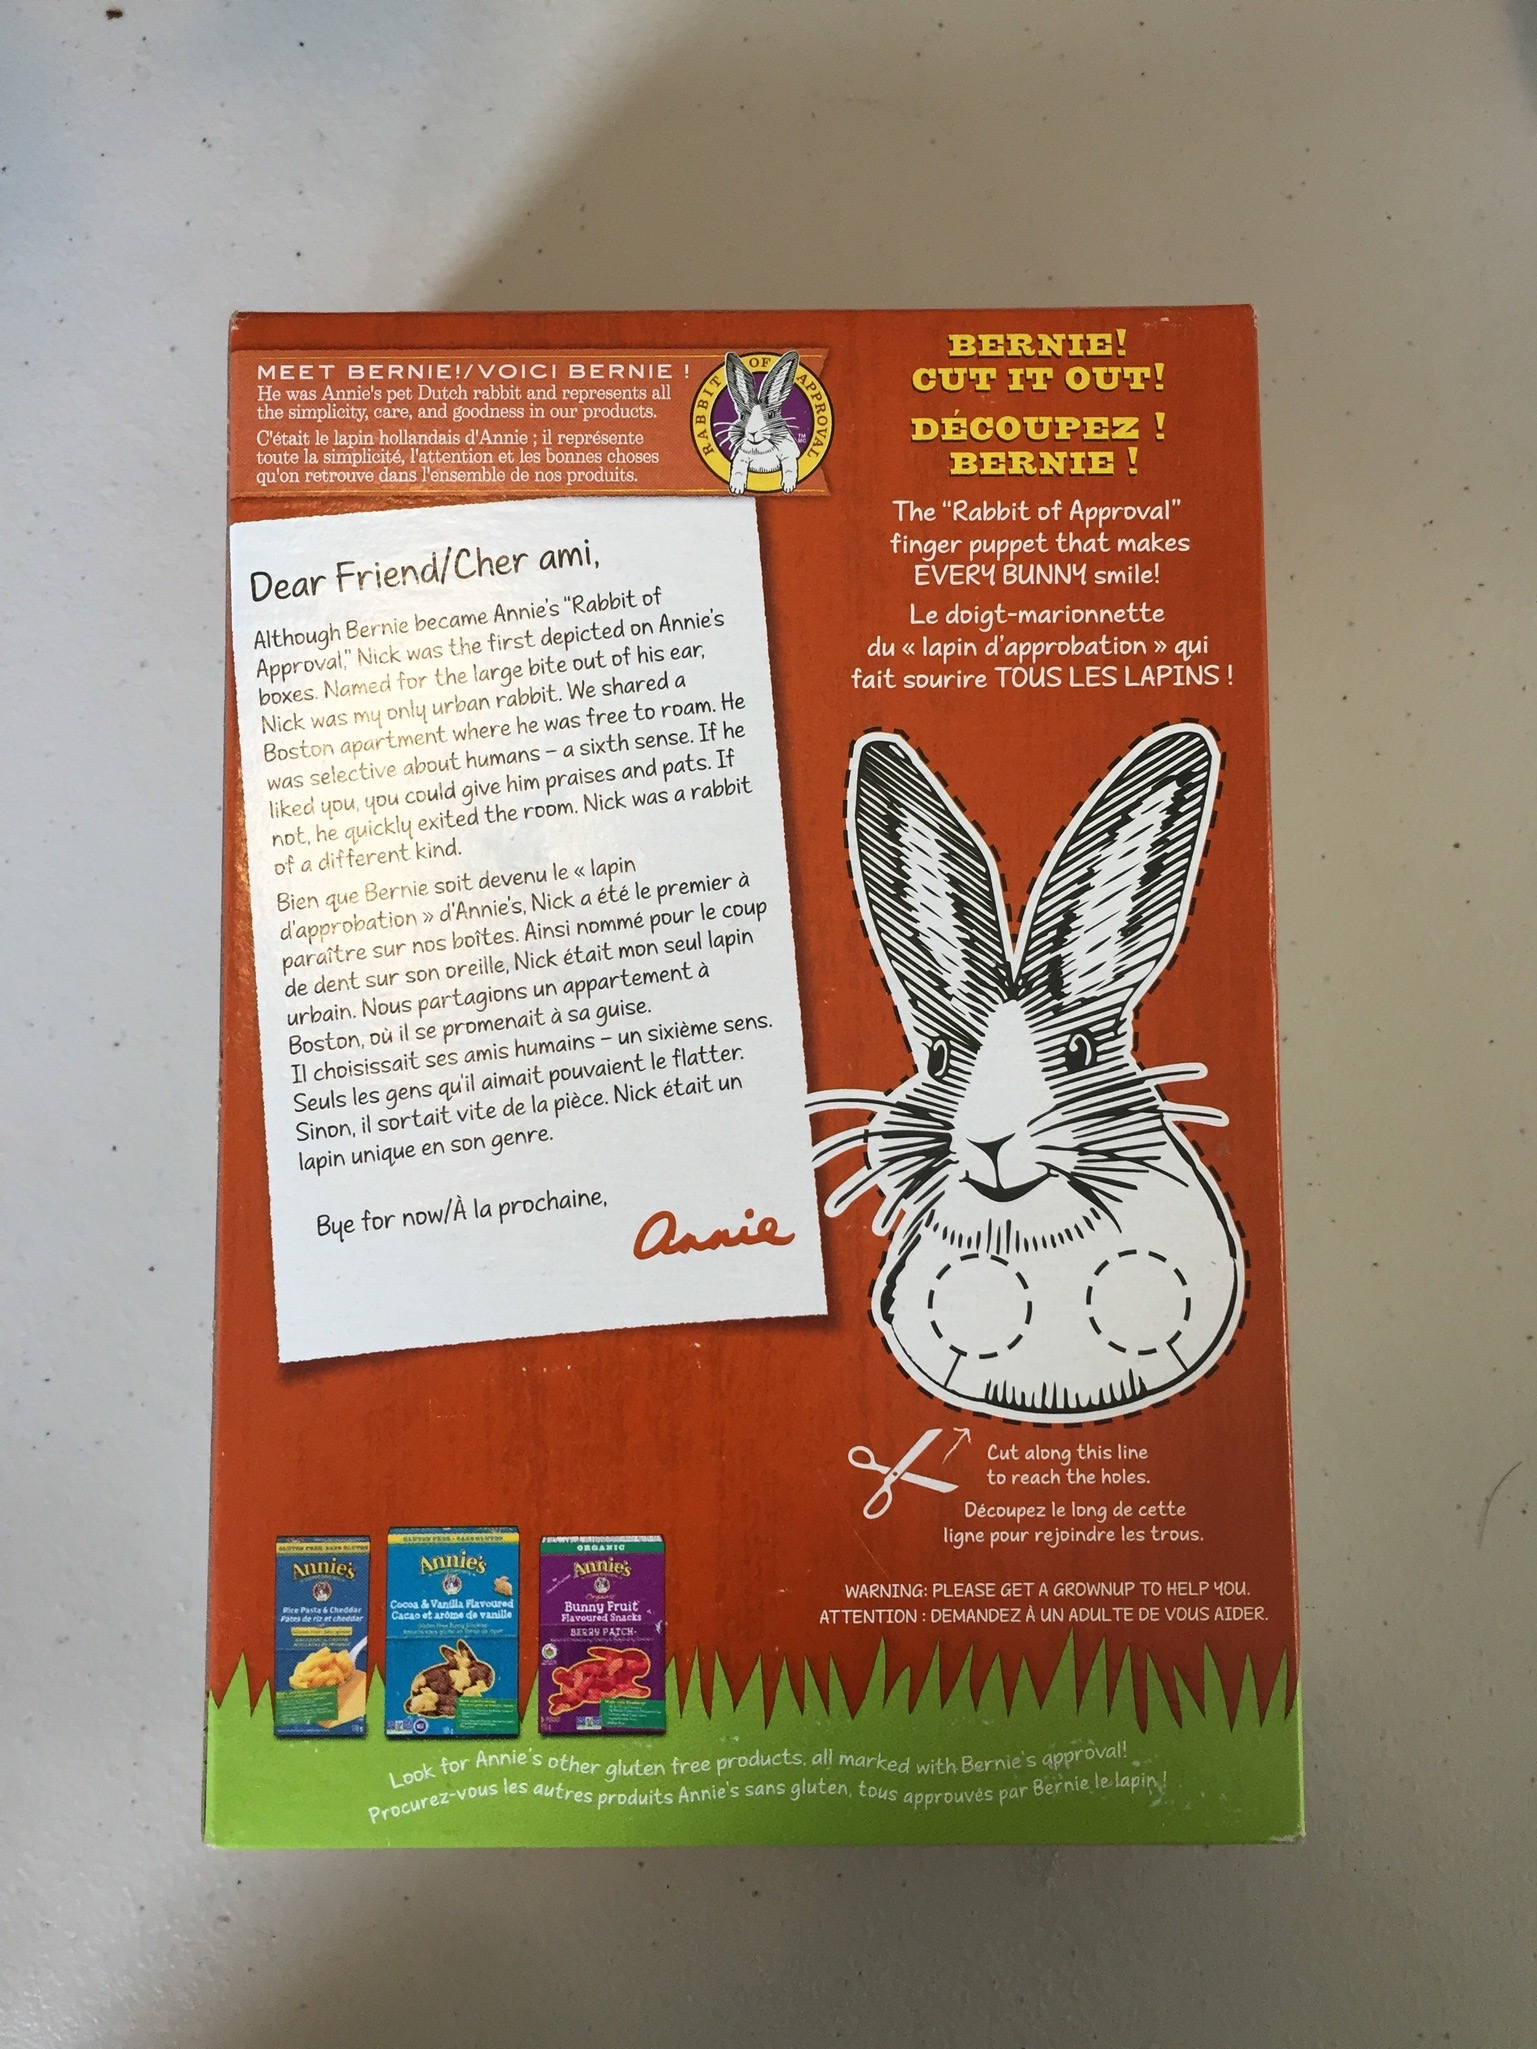annies_snickerdoodles_cinnamon_sugar: (241, 323, 1267, 1828)
